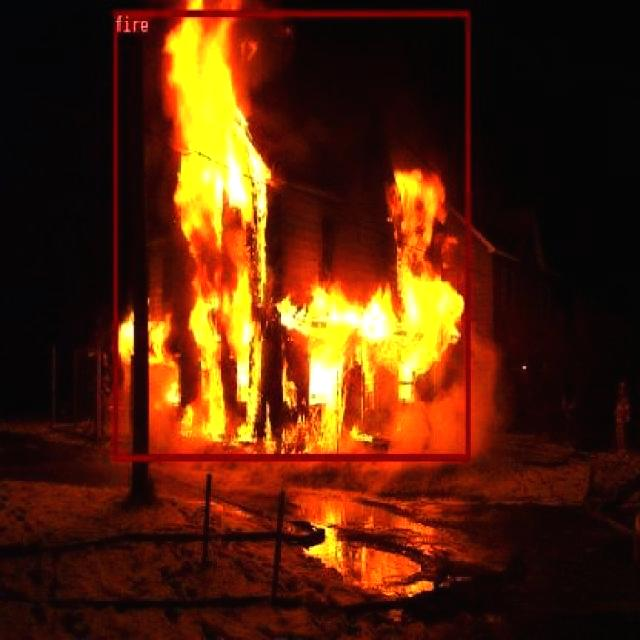fire: (112, 9, 470, 458)
